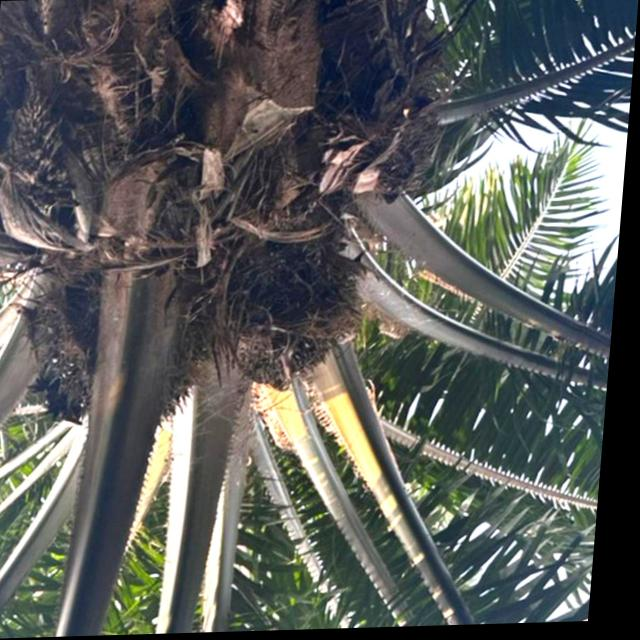unripe: (203, 233, 385, 401)
